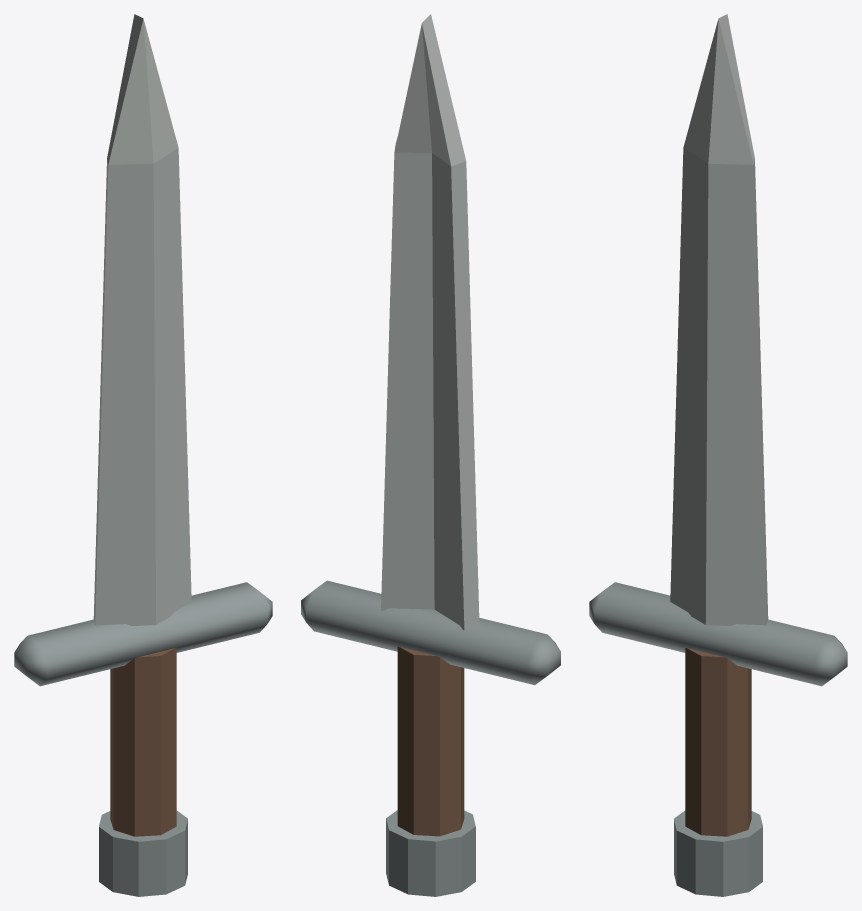
The model's file is prop_steel_sword.glb.
The picture shows the model from 3 angles, left to right: view 1: azimuth 30°, elevation 25°; view 2: azimuth 150°, elevation 25°; view 3: azimuth 330°, elevation 25°; orthographic projection.
Parts seen in each view (by area): view 1: tapered steel blade.002, leather wrapped grip.002, crossguard.002, pommel.002; view 2: tapered steel blade.002, crossguard.002, leather wrapped grip.002, pommel.002; view 3: tapered steel blade.002, leather wrapped grip.002, crossguard.002, pommel.002.
Boxes of the visible parts, <box> form: tapered steel blade.002: <box>93,14,191,625</box>; leather wrapped grip.002: <box>110,648,176,836</box>; crossguard.002: <box>14,582,272,686</box>; pommel.002: <box>99,810,187,896</box>; tapered steel blade.002: <box>381,14,479,630</box>; crossguard.002: <box>301,580,560,685</box>; leather wrapped grip.002: <box>397,646,464,836</box>; pommel.002: <box>386,810,475,896</box>; tapered steel blade.002: <box>670,14,768,625</box>; leather wrapped grip.002: <box>685,648,751,836</box>; crossguard.002: <box>589,582,847,686</box>; pommel.002: <box>674,810,762,896</box>.
Bounding box in the file's own units: 0.28 × 0.935 × 0.09.
